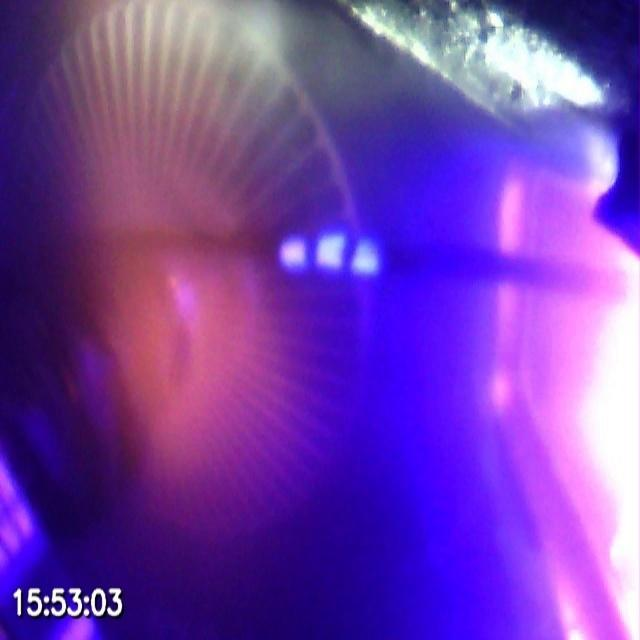white-dots: (275, 228, 381, 277)
